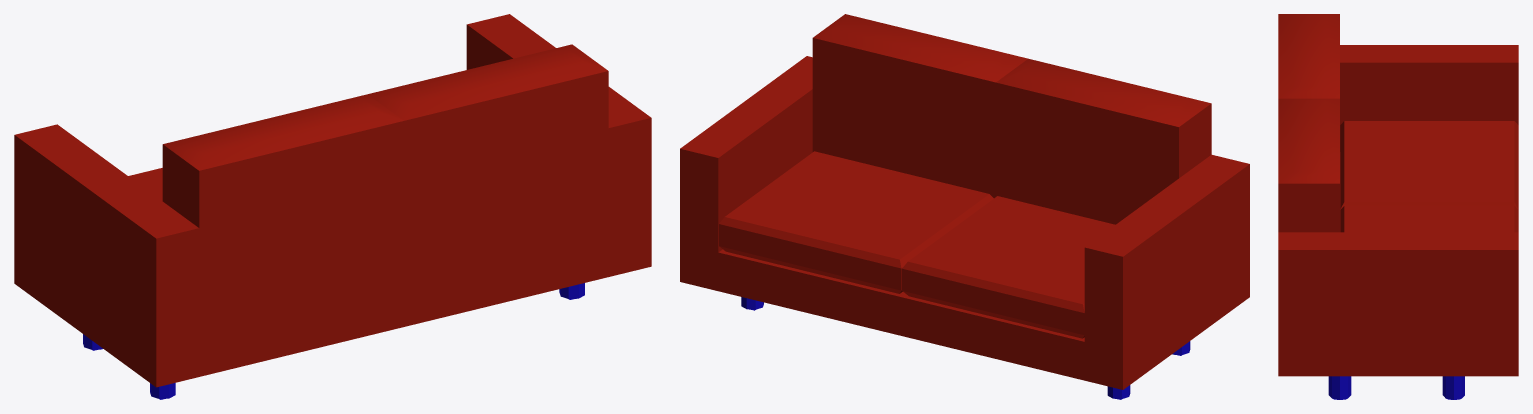
The model's file is P_Canape_Colored_Unbreakable.fbx.
3 views of the same model, side by side, from view 1: azimuth 30°, elevation 25°; view 2: azimuth 150°, elevation 25°; view 3: azimuth 270°, elevation 25° (orthographic). The views are drawn at different scales.
Visible parts, largest first — view 1: P_Canape_Colored_Unbreakable; view 2: P_Canape_Colored_Unbreakable; view 3: P_Canape_Colored_Unbreakable.
Part boxes in pixels (bbox=[...]): P_Canape_Colored_Unbreakable: bbox=[14, 14, 651, 399]; P_Canape_Colored_Unbreakable: bbox=[680, 14, 1249, 399]; P_Canape_Colored_Unbreakable: bbox=[1278, 14, 1518, 399].
Size of the model in its own units: 175 by 87.18 by 86.68.
